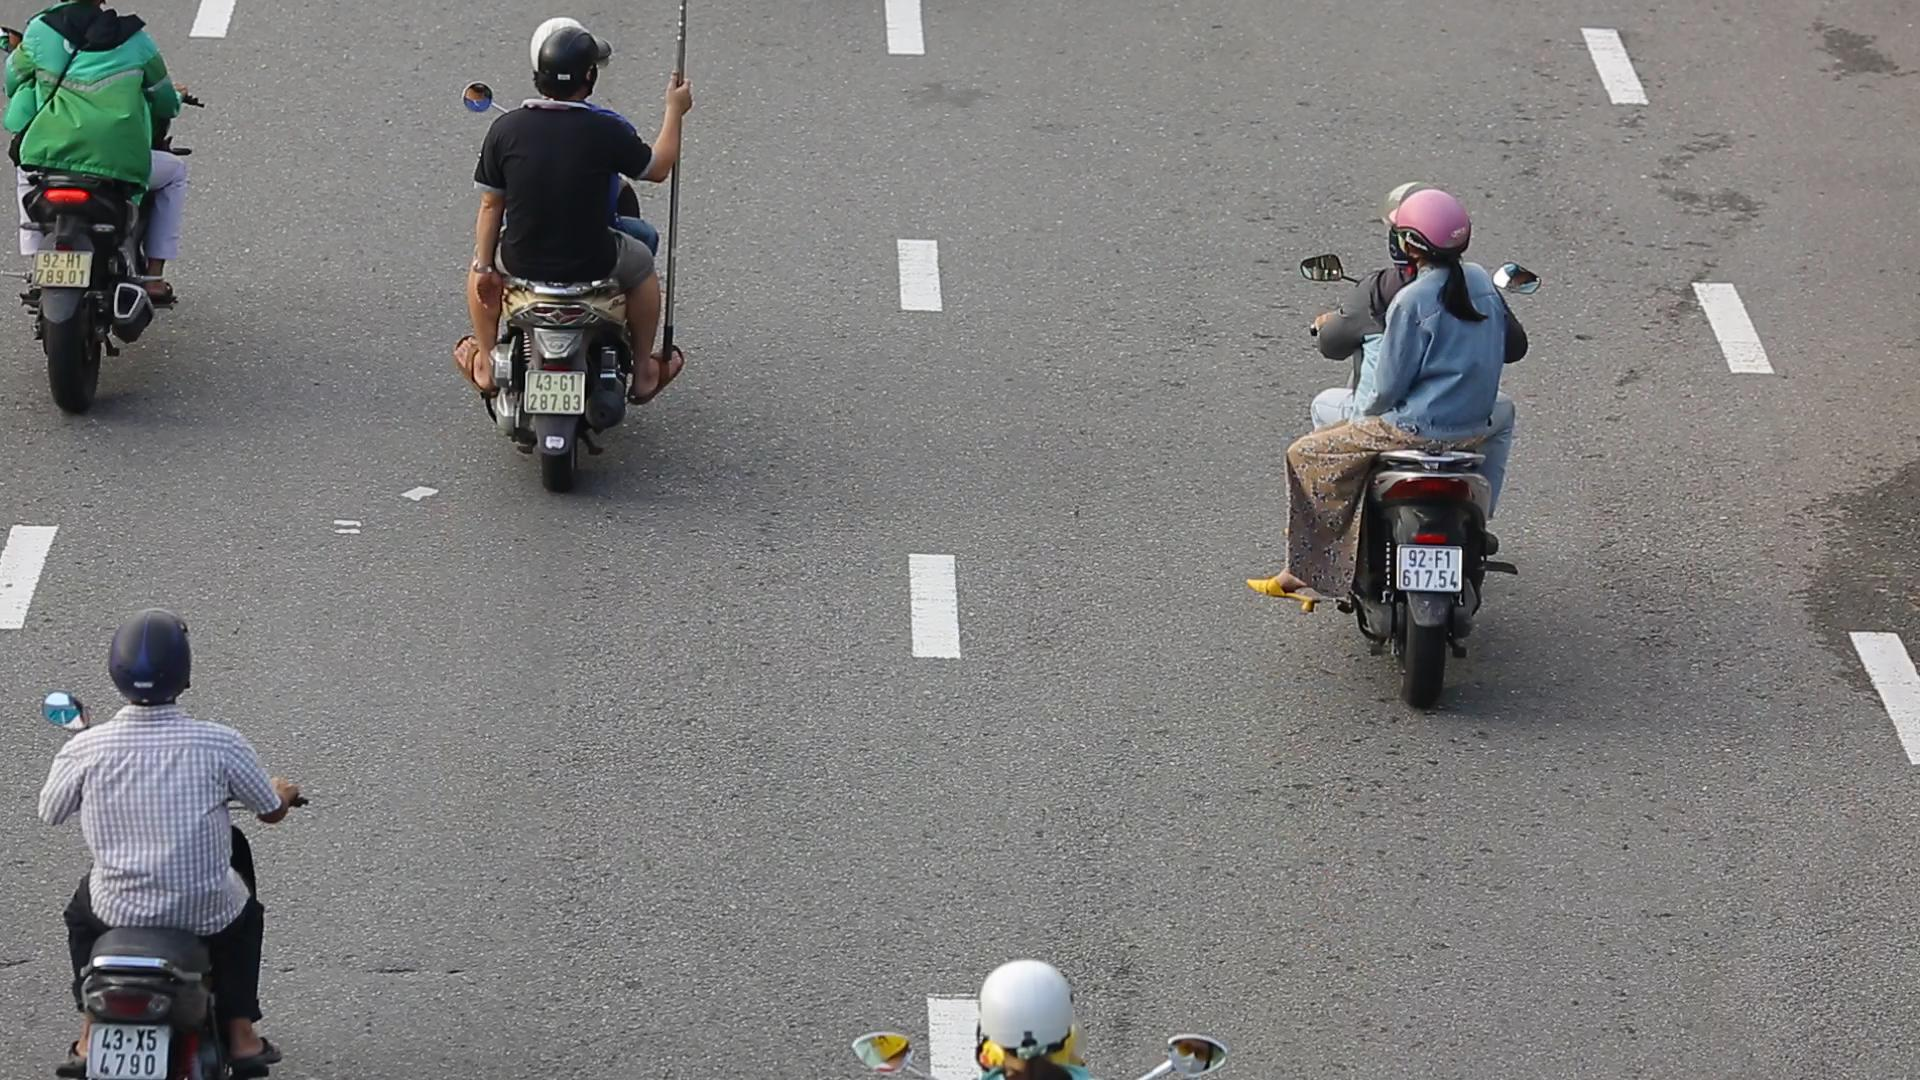motobike: (1258, 181, 1544, 717), (42, 592, 311, 1080), (459, 12, 694, 522)
